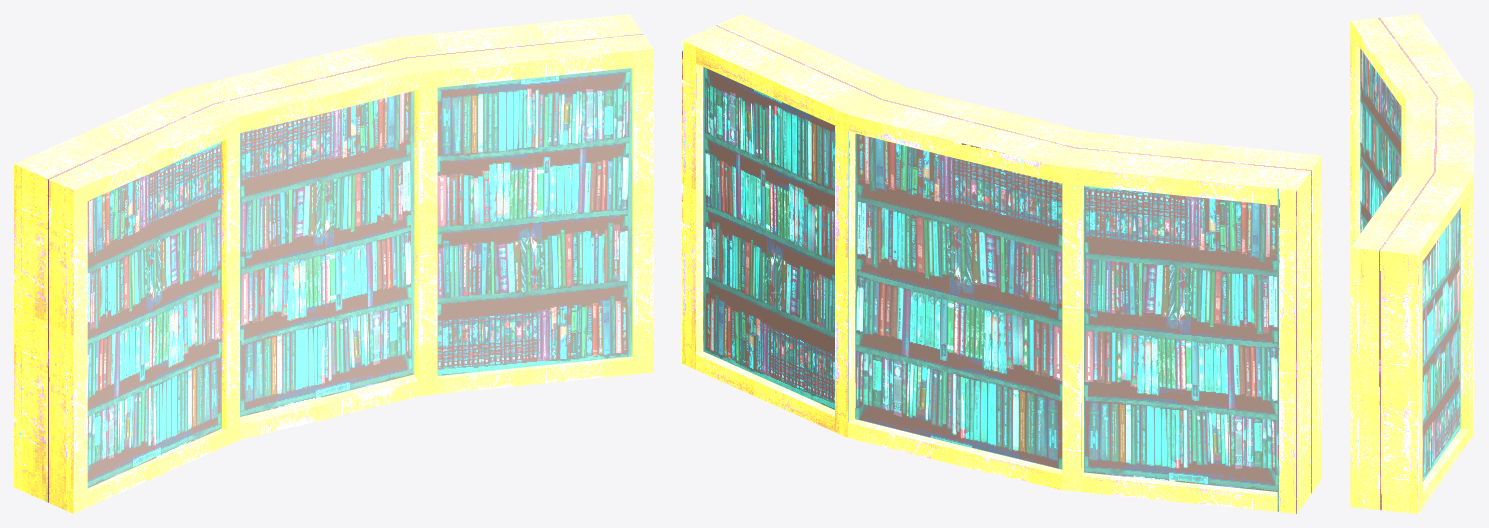
Rendered from urn_bookshelf.glb.
The picture shows the model from 3 angles, left to right: view 1: azimuth 30°, elevation 25°; view 2: azimuth 150°, elevation 25°; view 3: azimuth 270°, elevation 25°; orthographic projection. The views are drawn at different scales.
Parts seen in each view (by area): view 1: urn_bookshelf; view 2: urn_bookshelf; view 3: urn_bookshelf.
Part boxes in pixels (x1,y1,x2,y2): urn_bookshelf: (14,14,653,513); urn_bookshelf: (682,14,1321,513); urn_bookshelf: (1350,14,1474,513).
Size of the model in its own units: 6.38 by 3.2 by 1.39.
